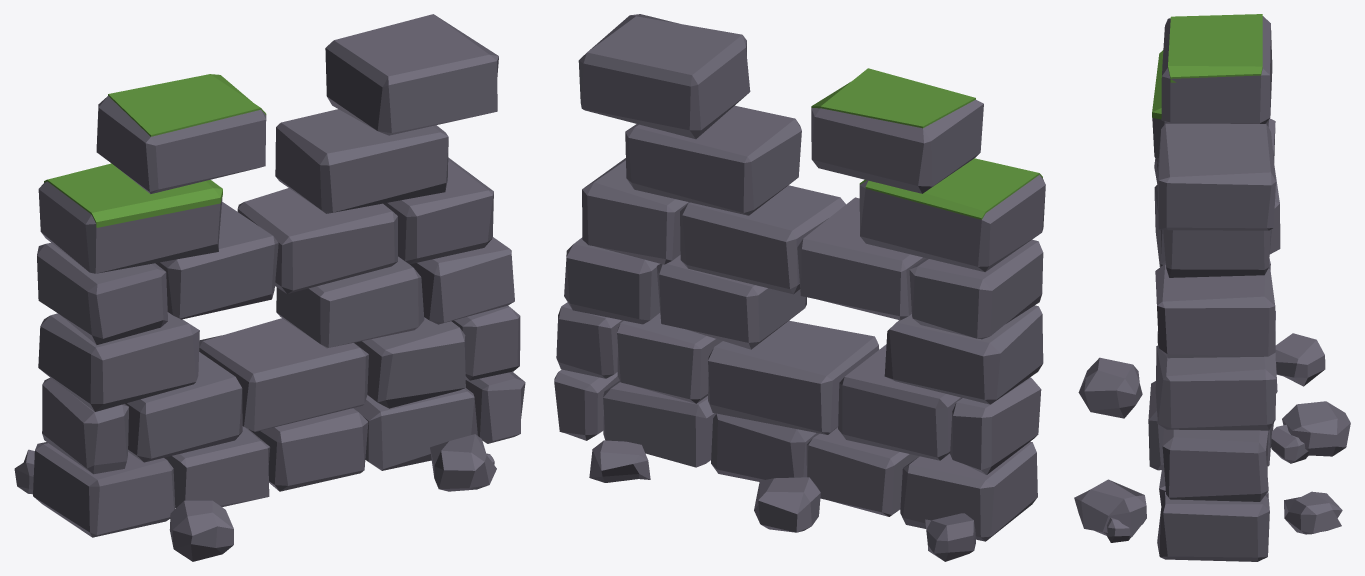
Rendered from StoneWall1.fbx.
3 views of the same model, side by side, from view 1: azimuth 30°, elevation 25°; view 2: azimuth 150°, elevation 25°; view 3: azimuth 270°, elevation 25° (orthographic). The views are drawn at different scales.
Visible parts, largest first — view 1: Stone, Moss; view 2: Stone, Moss; view 3: Stone, Moss.
Part boxes in pixels (x1,y1,x2,y2): Stone: (14,14,525,561); Moss: (44,74,266,227); Stone: (554,14,1045,561); Moss: (811,68,1042,219); Stone: (1074,16,1350,561); Moss: (1152,14,1262,119).
Size of the model in its own units: 8.03 by 7.06 by 4.53.
